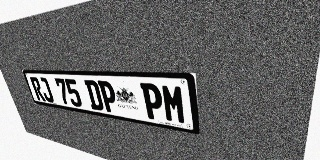5: (64, 79, 83, 108)
7: (54, 78, 72, 106)
D: (84, 80, 104, 111)
J: (38, 77, 55, 103)
M: (161, 84, 187, 125)
P: (140, 83, 165, 121), (97, 80, 119, 113)
R: (29, 77, 46, 101)
